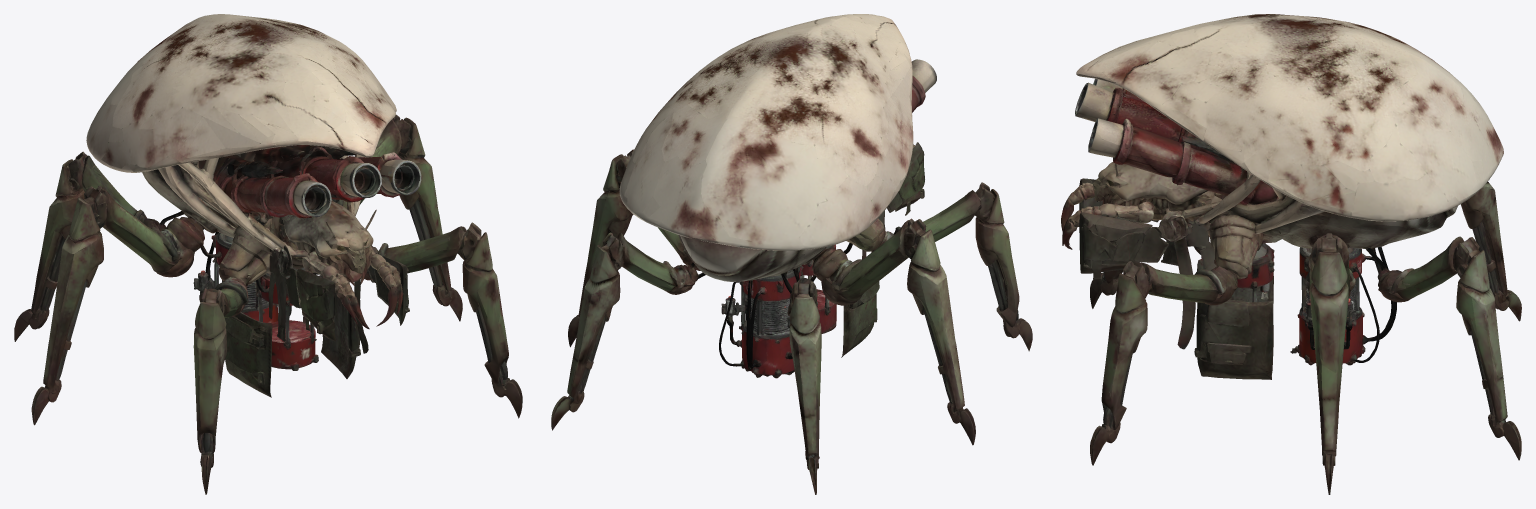
File: widow-of-the-salvo.glb
The picture shows the model from 3 angles, left to right: view 1: azimuth 30°, elevation 25°; view 2: azimuth 150°, elevation 25°; view 3: azimuth 270°, elevation 25°; orthographic projection. The views are drawn at different scales.
Parts seen in each view (by area): view 1: Mesh_0; view 2: Mesh_0; view 3: Mesh_0.
Boxes of the visible parts, <box> form: Mesh_0: <box>14,14,522,494</box>; Mesh_0: <box>551,14,1032,494</box>; Mesh_0: <box>1061,14,1521,494</box>.
Bounding box in the file's own units: 1.9 × 1.51 × 1.72.
Materials: 1 (1 with a texture image).
